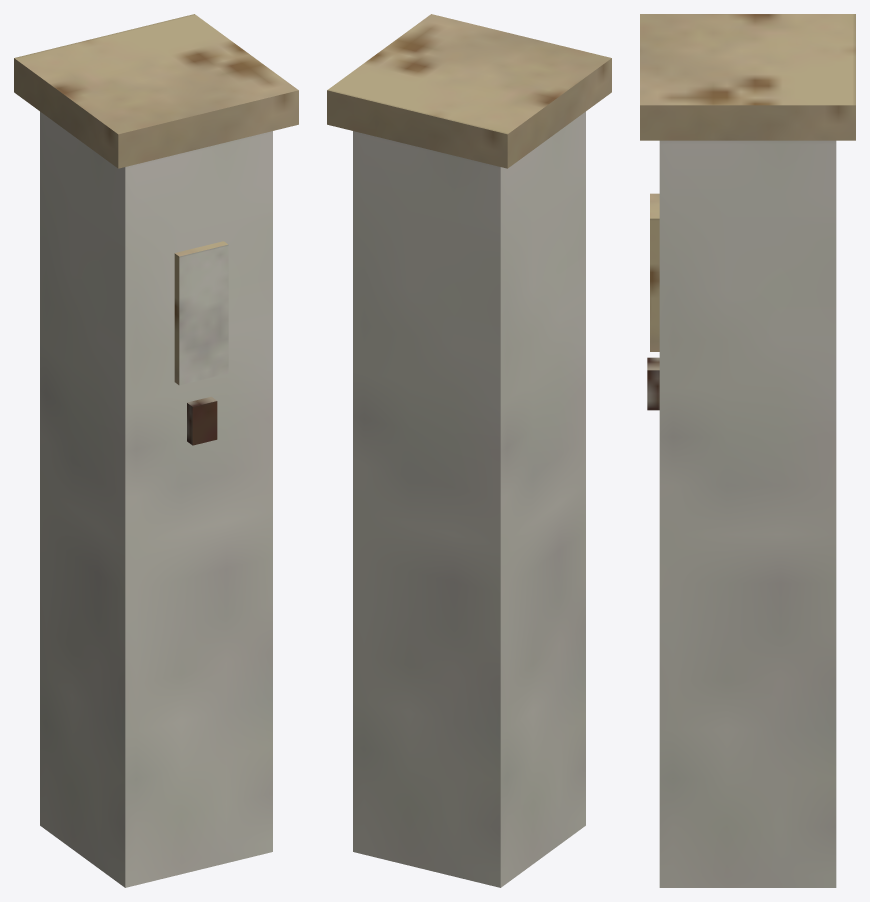
Rendered from gatepost.fbx.
3 views of the same model, side by side, from view 1: azimuth 30°, elevation 25°; view 2: azimuth 150°, elevation 25°; view 3: azimuth 270°, elevation 25° (orthographic). The views are drawn at different scales.
Parts seen in each view (by area): view 1: gatepost; view 2: gatepost; view 3: gatepost.
Boxes of the visible parts, box(x1,y1,x2,y2) form: gatepost: box(14, 14, 298, 887); gatepost: box(327, 14, 611, 887); gatepost: box(640, 14, 855, 887).
Bounding box in the file's own units: 0.44 × 1.78 × 0.44.
